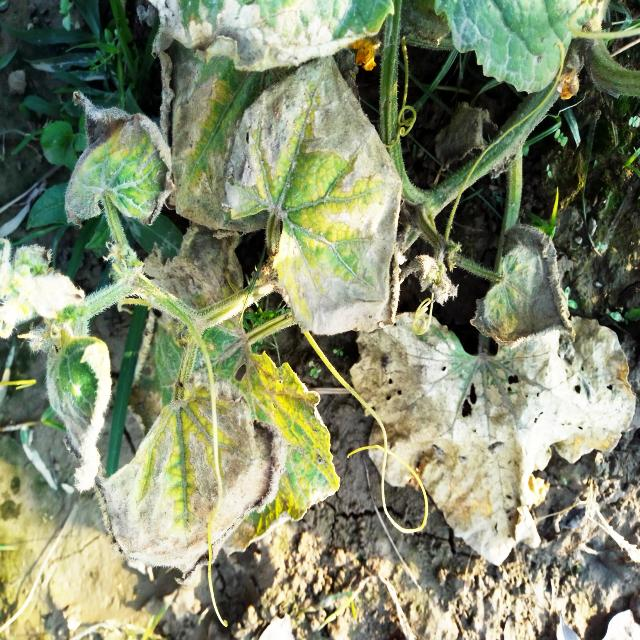Bacterial-Wilt: (346, 306, 638, 568)
